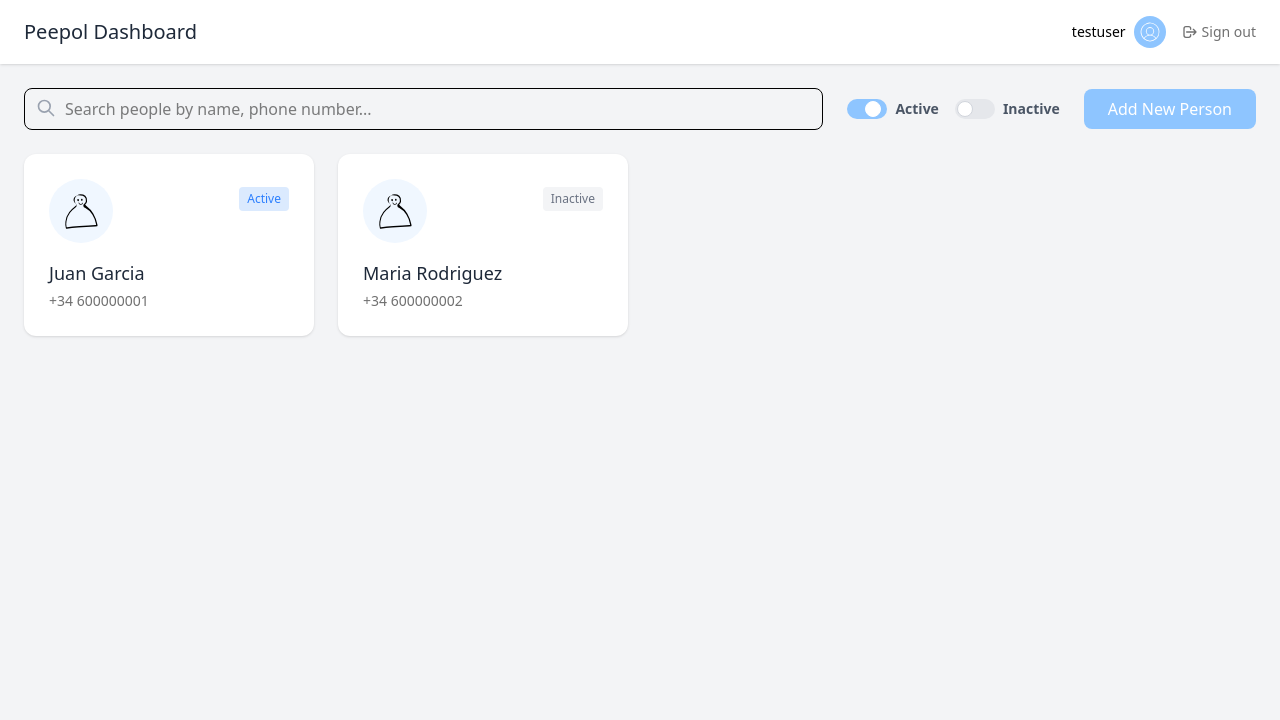
Test case: DashboardPage › shows create modal when clicking "Add New Person"
Click the button "Add New Person" at (1170, 109), box [1084,89,1256,129]
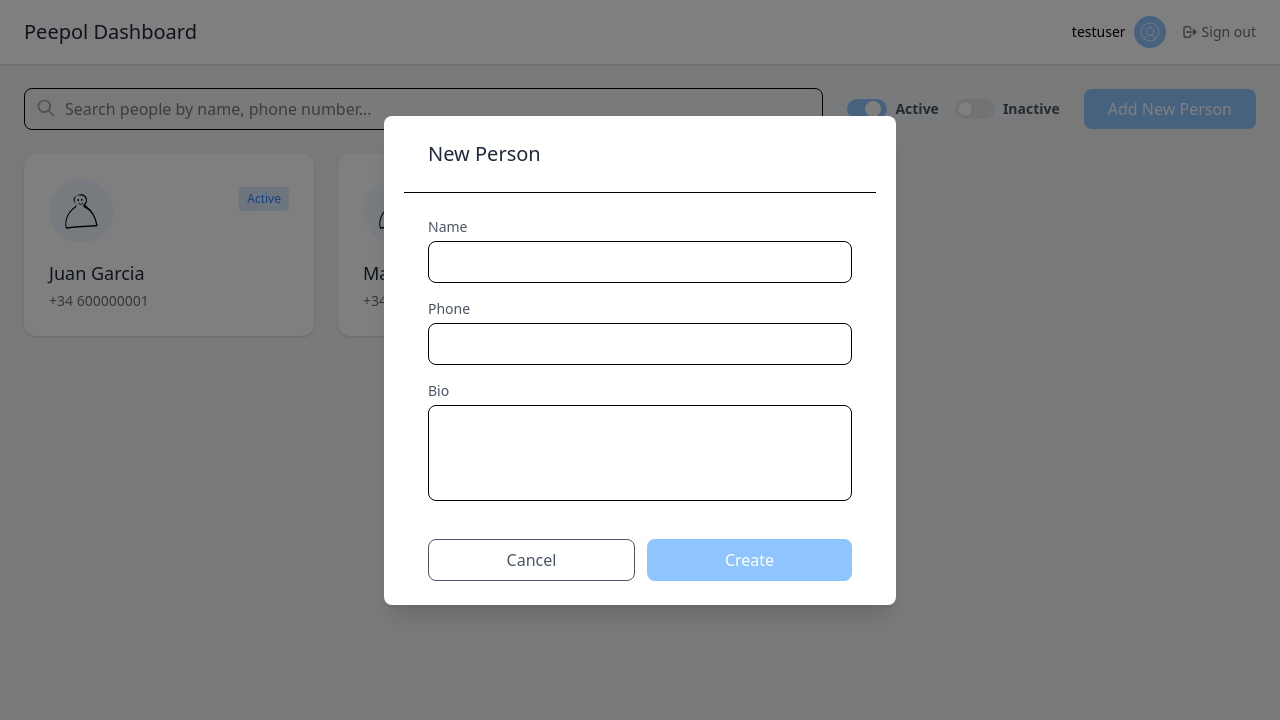
Expected: the heading "New Person" is shown, [428,140,541,166]
